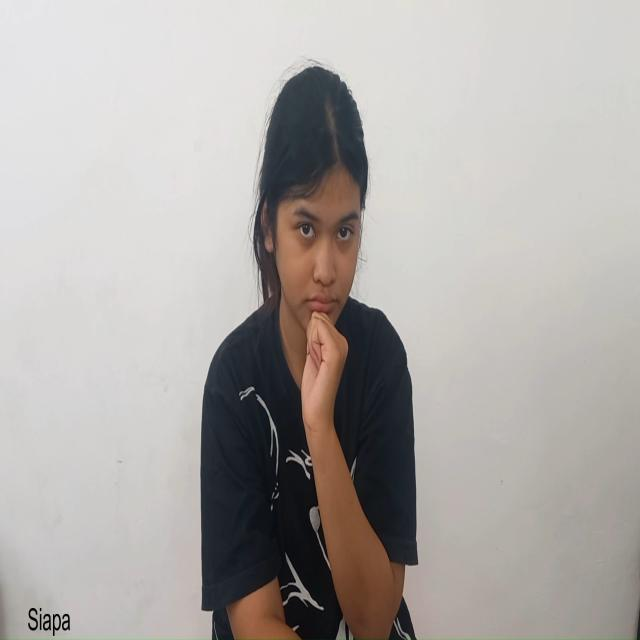Siapa -BISINDO-: (246, 60, 380, 422)
